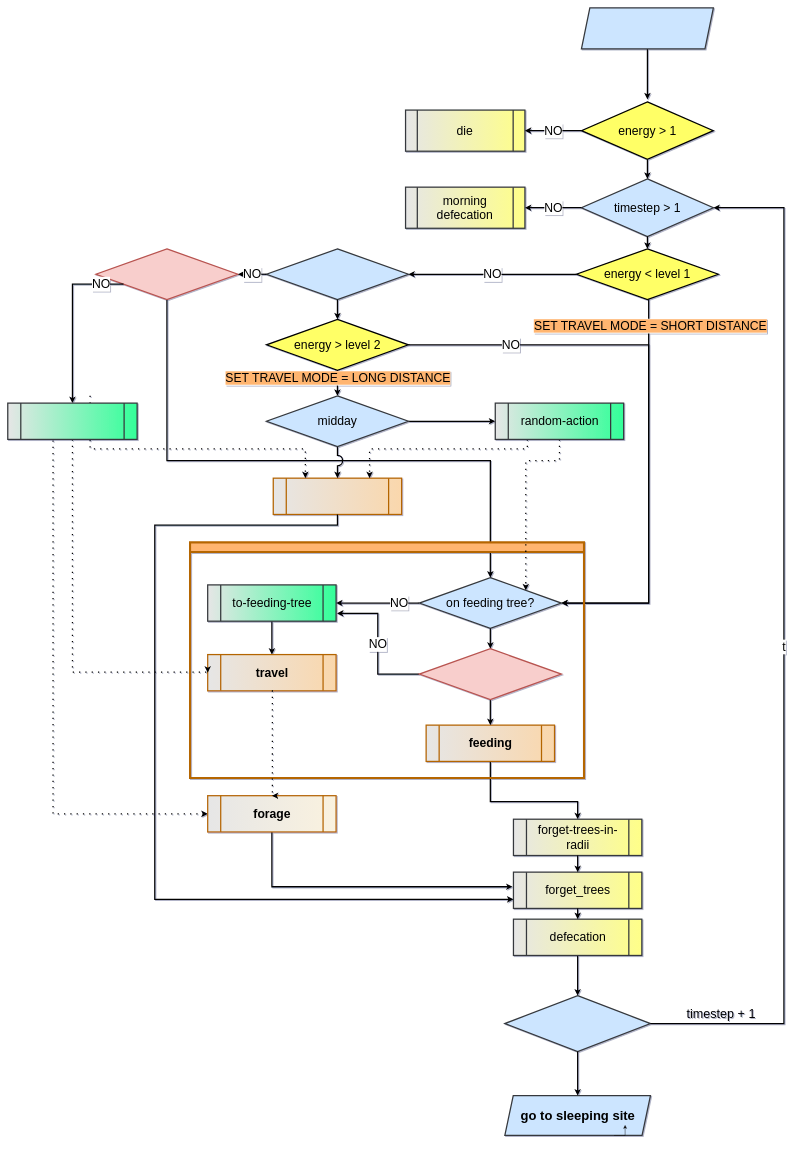
The diagram is 798 pixels wide and 1149 high, and some of its shapes have lost their labels. The shapes that lost their labels are listed below. From the top down, each one's box as (x1, y1, x2, y2) in pixels, then its label:
(581, 7, 714, 49): out of sleeping site timestep = 0
(95, 248, 238, 300): duration < action-time
(266, 248, 409, 300): travel_mode = "short_distance"?
(7, 402, 138, 440): last-action
(272, 477, 402, 515): resting
(189, 541, 585, 779): Frugivory
(419, 648, 562, 700): species-time > action-time
(504, 995, 651, 1052): timestep > simulation_time
